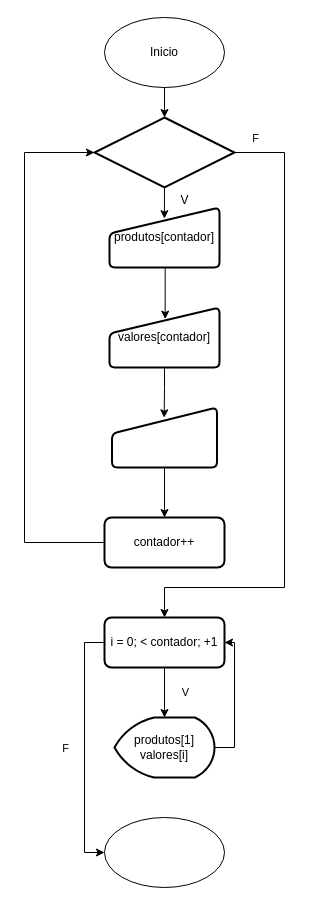
This 310x905 diagram has some shape labels left out. Each missing label, with the centre of its shape:
"Fim" belongs at [164,852].
"loop" belongs at [164,437].
"loop == 1" belongs at [164,152].
